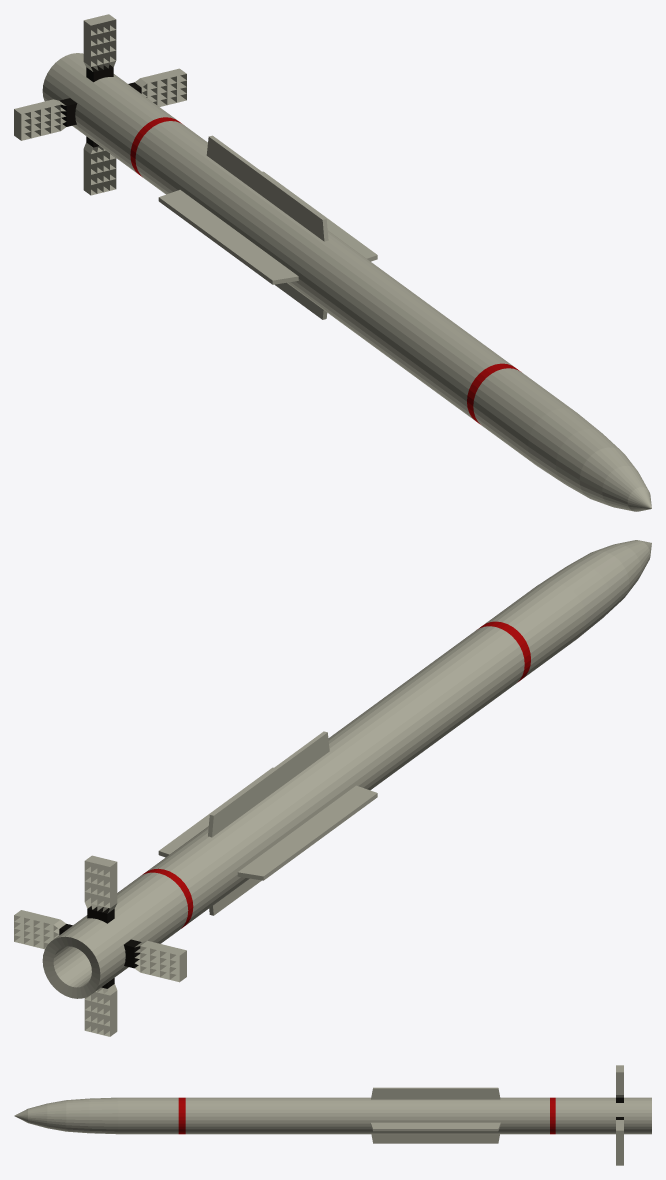
Rendered from missile.obj.
The picture shows the model from 3 angles, top to bottom: view 1: azimuth 30°, elevation 25°; view 2: azimuth 150°, elevation 25°; view 3: azimuth 270°, elevation 25°; orthographic projection. The views are drawn at different scales.
Visible parts, largest first — view 1: Cylinder; view 2: Cylinder; view 3: Cylinder.
Boxes of the visible parts, x1,y1,x2,y2 form: Cylinder: (14, 14, 651, 511); Cylinder: (14, 540, 651, 1036); Cylinder: (14, 1065, 651, 1165).
Bounding box in the file's own units: 1.22 × 1.19 × 7.37.
